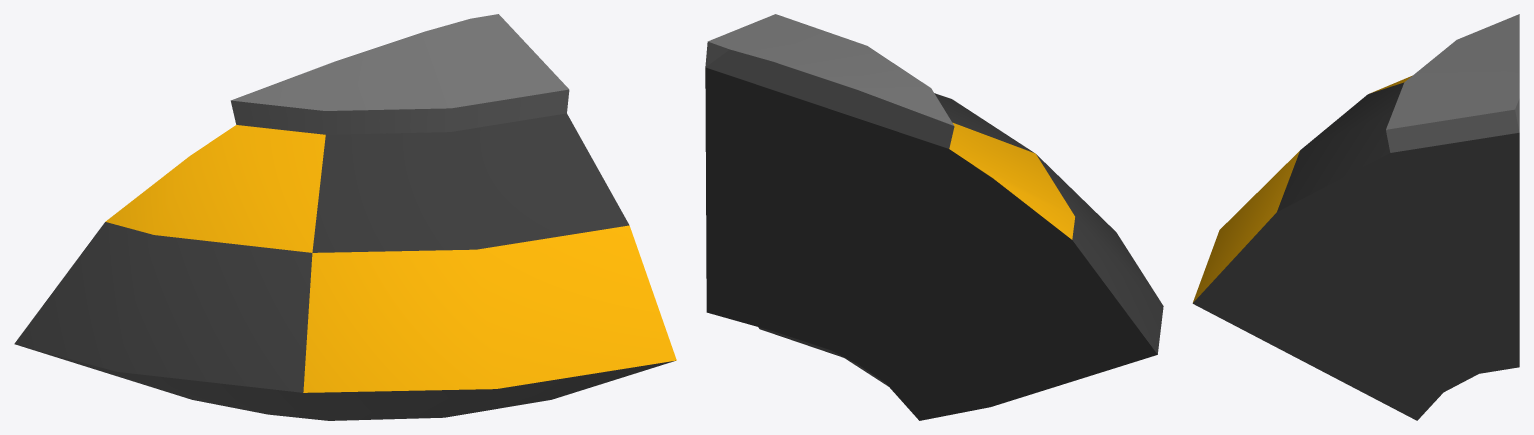
File: kea1e.obj
3 renders of one model, left to right at view 1: azimuth 30°, elevation 25°; view 2: azimuth 150°, elevation 25°; view 3: azimuth 270°, elevation 25°, orthographic. The views are drawn at different scales.
Visible parts, largest first — view 1: Cube2; view 2: Cube2; view 3: Cube2.
Boxes of the visible parts, box(x1,y1,x2,y2) form: Cube2: box(14, 14, 676, 420); Cube2: box(705, 14, 1163, 420); Cube2: box(1192, 14, 1519, 420).
Bounding box in the file's own units: 1.93 × 1.33 × 1.26.
